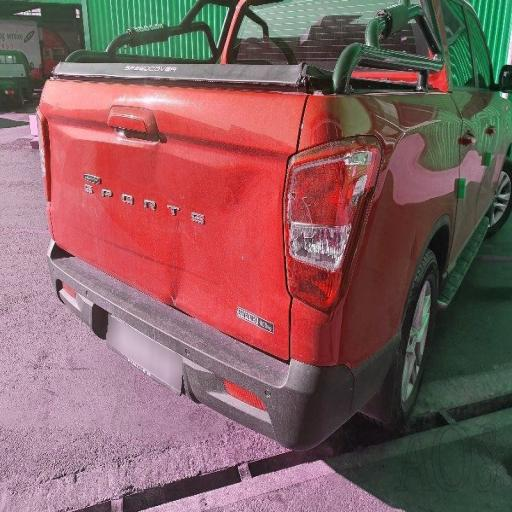dent: (58, 87, 324, 333)
scratch: (288, 143, 379, 302)
